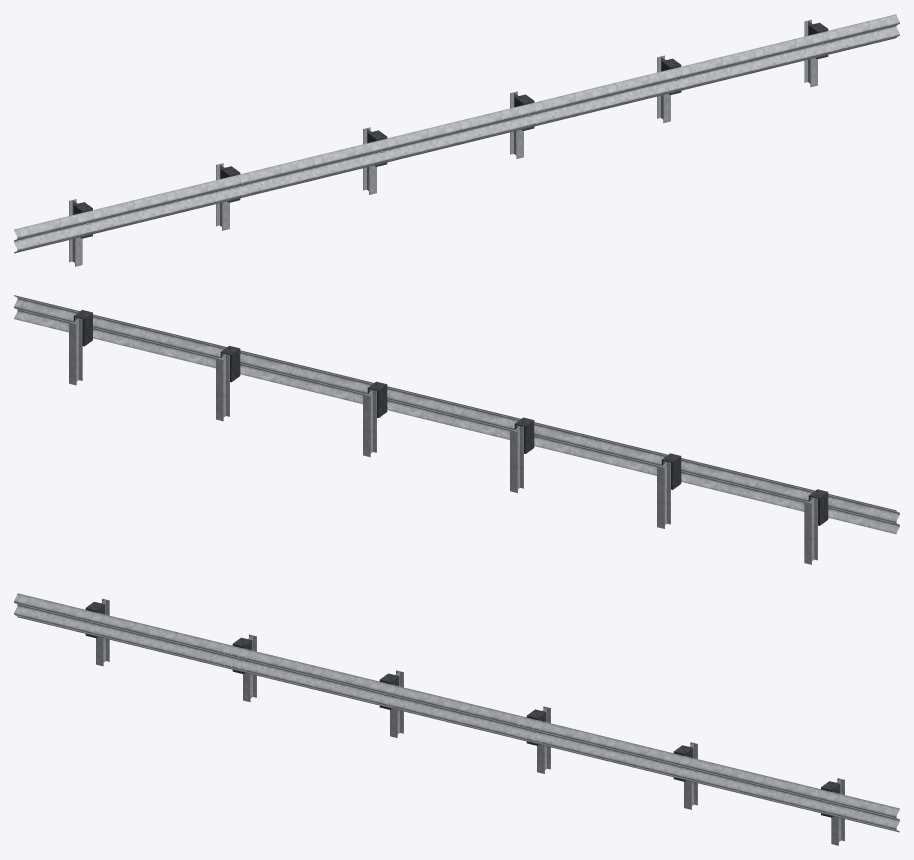
The model's file is guardrail.glb.
The picture shows the model from 3 angles, top to bottom: view 1: azimuth 30°, elevation 25°; view 2: azimuth 150°, elevation 25°; view 3: azimuth 330°, elevation 25°; orthographic projection.
Parts seen in each view (by area): view 1: Galvanized W-beam rail, Steel posts and blockouts; view 2: Galvanized W-beam rail, Steel posts and blockouts; view 3: Galvanized W-beam rail, Steel posts and blockouts.
Part boxes in pixels (<box>): Galvanized W-beam rail: <box>14,14,899,253</box>; Steel posts and blockouts: <box>69,19,828,266</box>; Galvanized W-beam rail: <box>14,295,899,534</box>; Steel posts and blockouts: <box>69,310,828,564</box>; Galvanized W-beam rail: <box>14,593,899,832</box>; Steel posts and blockouts: <box>85,598,844,845</box>.
Bounding box in the file's own units: 12 × 0.8115 × 0.4465.
2 materials, 2 textured.
